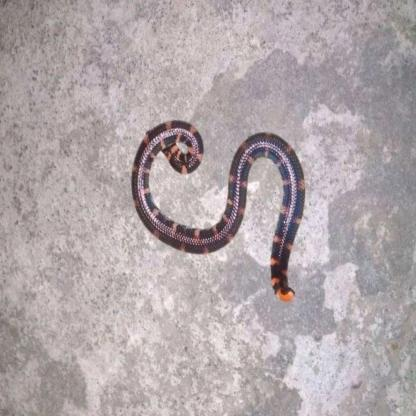Snake: (130, 116, 302, 309)
